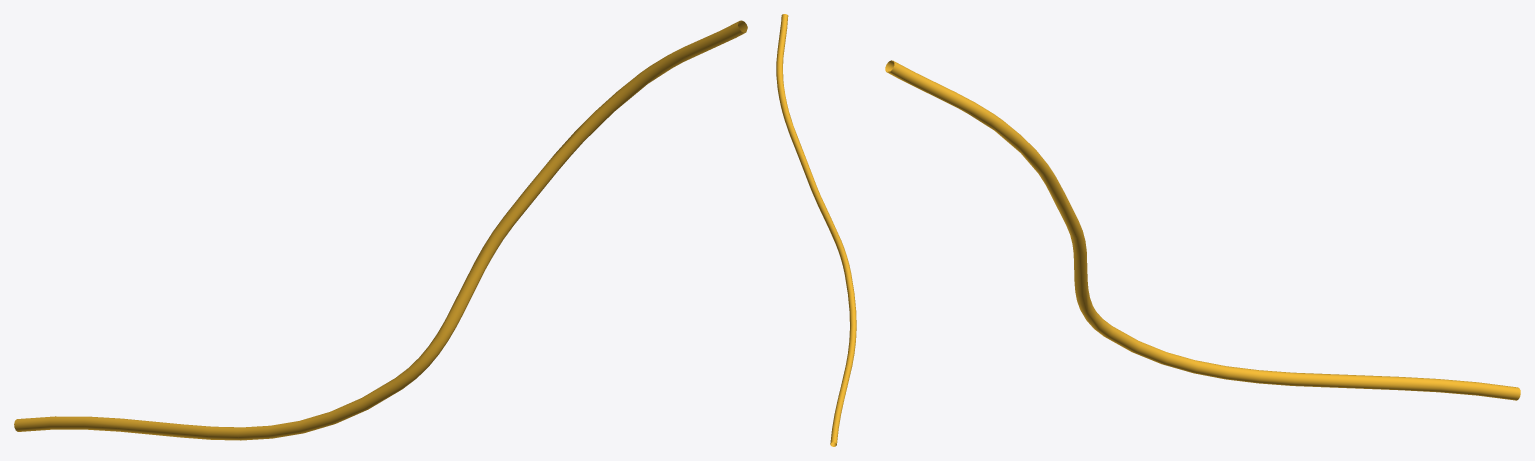
File: nervoso-sural-communicating-branch-of-common-fibular-nerve-l.glb
3 views of the same model, side by side, from view 1: azimuth 30°, elevation 25°; view 2: azimuth 150°, elevation 25°; view 3: azimuth 270°, elevation 25° (orthographic). The views are drawn at different scales.
Visible parts, largest first — view 1: Sural communicating branch of common fibular nerve.l; view 2: Sural communicating branch of common fibular nerve.l; view 3: Sural communicating branch of common fibular nerve.l.
Boxes of the visible parts, box(x1,y1,x2,y2) form: Sural communicating branch of common fibular nerve.l: box(14, 20, 747, 440); Sural communicating branch of common fibular nerve.l: box(776, 14, 856, 446); Sural communicating branch of common fibular nerve.l: box(885, 60, 1520, 400).
Size of the model in its own units: 0.0363 by 0.0443 by 0.0473.
